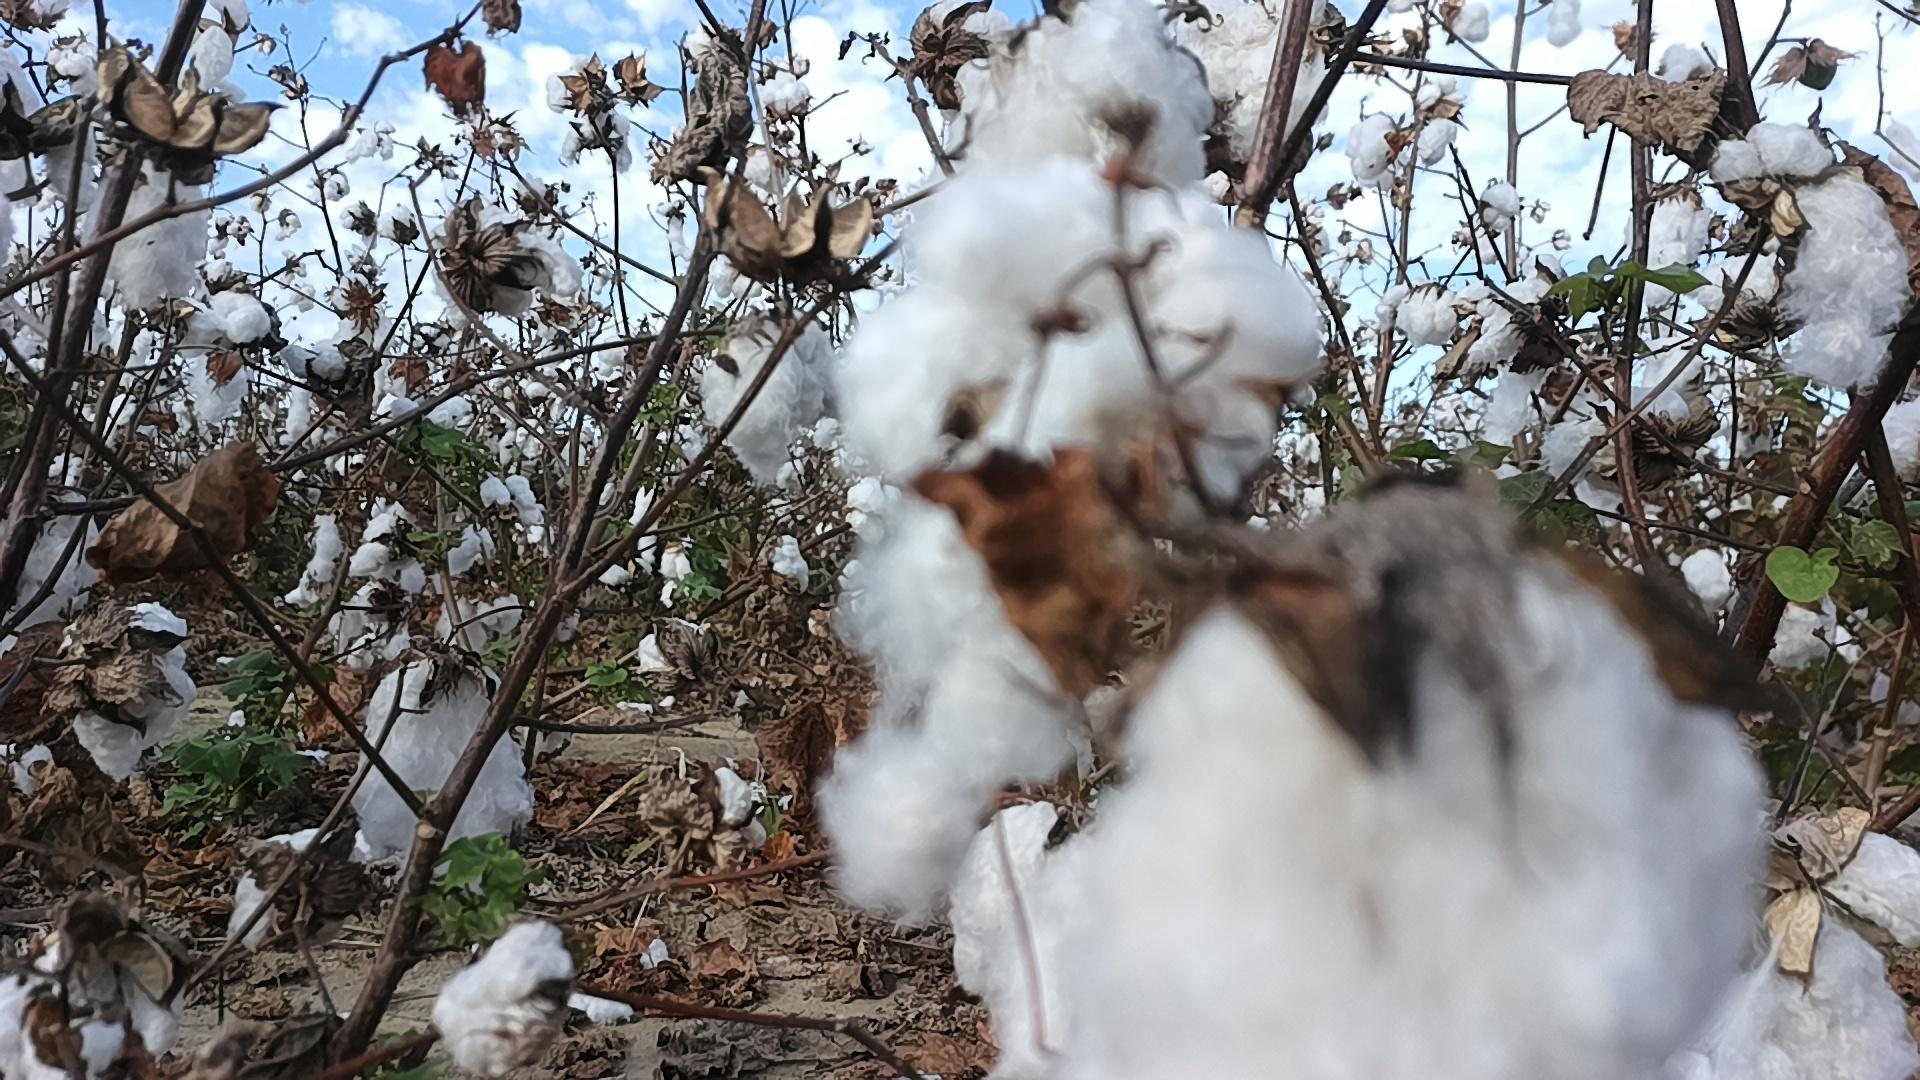cotton_ready: (818, 156, 1320, 915), (1085, 546, 1774, 1080), (1668, 814, 1920, 1080), (1710, 116, 1920, 388), (961, 0, 1218, 179), (349, 661, 538, 855), (0, 931, 181, 1080), (700, 309, 845, 491), (1170, 0, 1320, 173), (58, 600, 195, 779), (430, 920, 578, 1075), (83, 149, 212, 309), (1549, 385, 1691, 529), (0, 454, 105, 637), (228, 831, 361, 957), (1473, 280, 1560, 451), (431, 206, 563, 318), (926, 0, 1018, 119), (1626, 190, 1713, 309), (173, 0, 248, 95), (1763, 582, 1838, 675), (170, 281, 273, 345), (704, 769, 767, 858), (1390, 281, 1468, 347), (1883, 400, 1920, 485)
